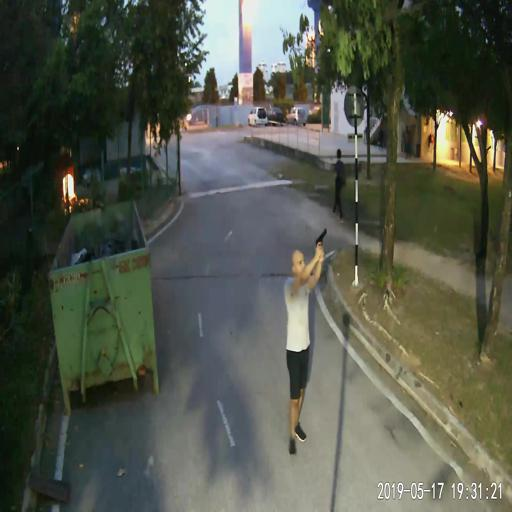pistol: (315, 228, 326, 255)
